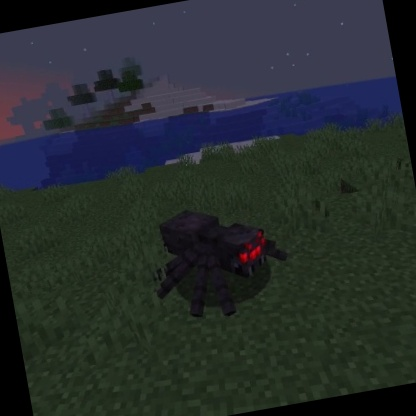spider: (139, 190, 298, 331)
